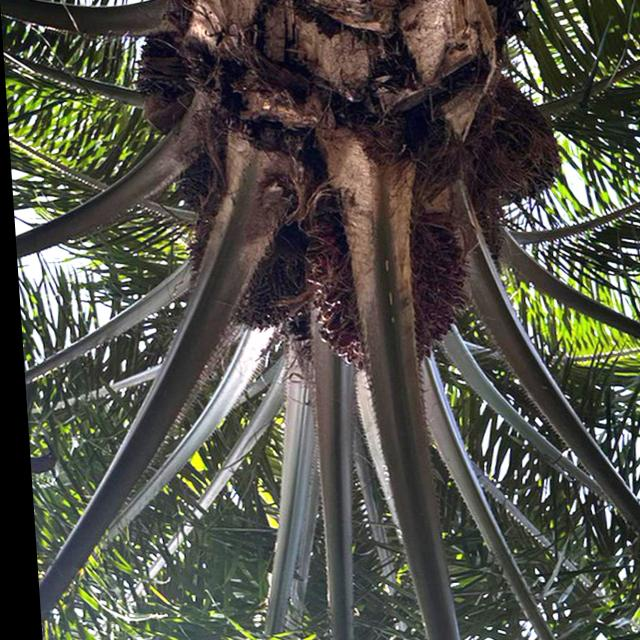ripe: (287, 196, 484, 392)
